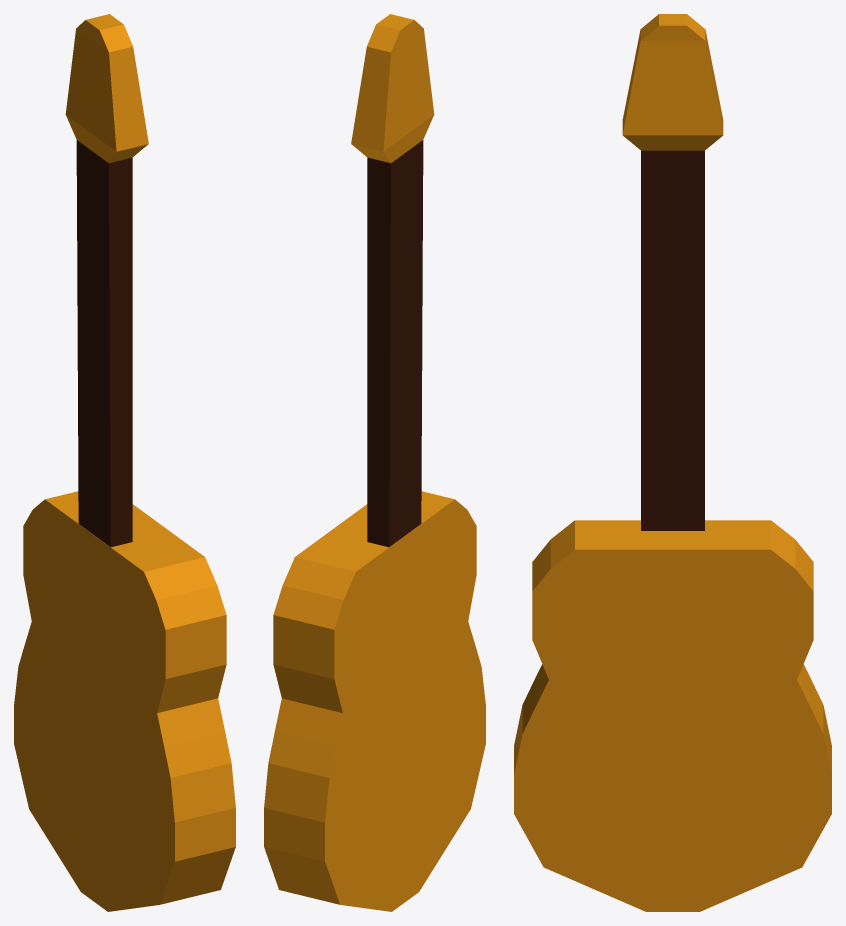
Rendered from guitar.fbx.
3 renders of one model, left to right at view 1: azimuth 30°, elevation 25°; view 2: azimuth 150°, elevation 25°; view 3: azimuth 270°, elevation 25°, orthographic.
Parts seen in each view (by area): view 1: Cube.001; view 2: Cube.001; view 3: Cube.001.
Part boxes in pixels (bbox=[...]): Cube.001: bbox=[14, 14, 235, 911]; Cube.001: bbox=[264, 14, 485, 911]; Cube.001: bbox=[514, 14, 831, 911].
Size of the model in its own units: 16.29 by 212 by 70.4.
